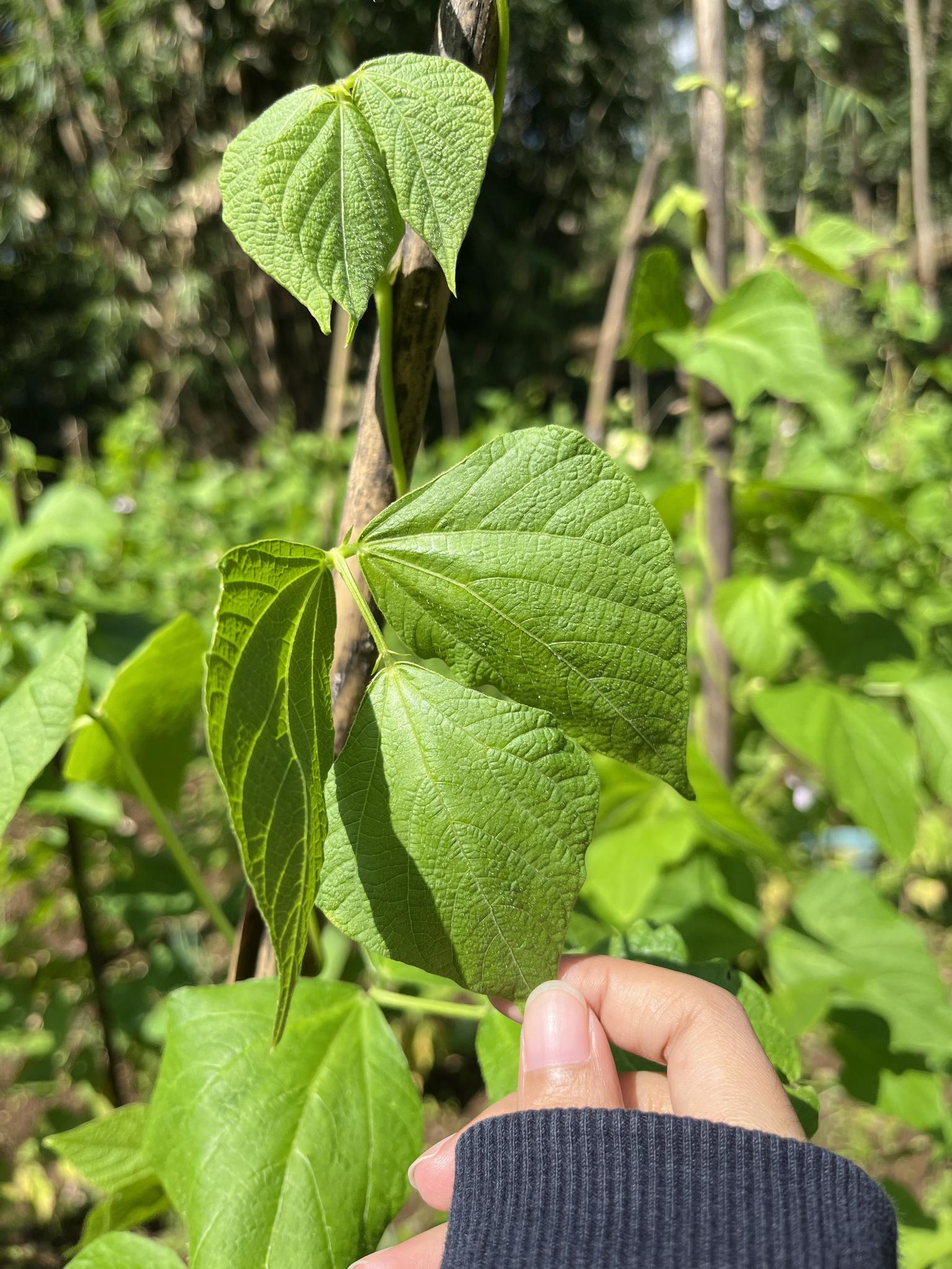sehat: (315, 669, 600, 1015)
